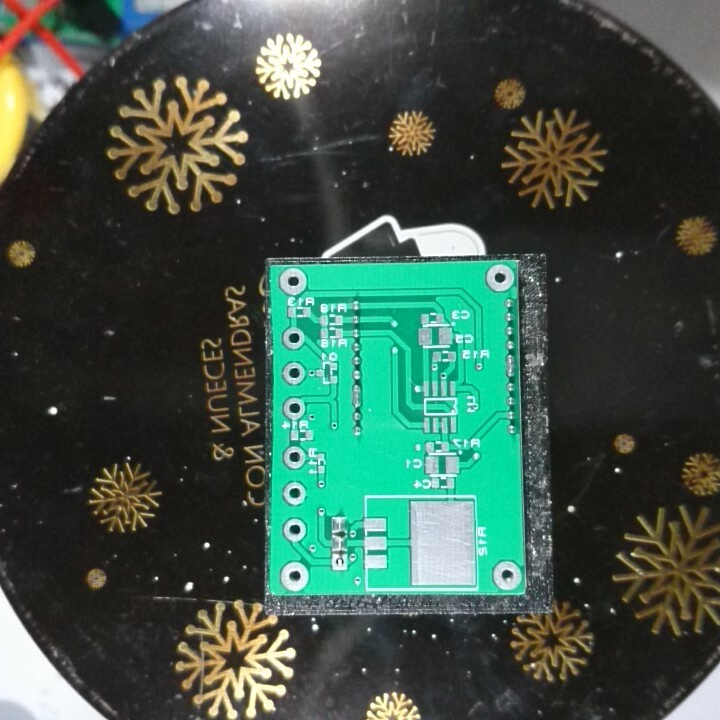F: (481, 262, 516, 297), (276, 266, 310, 300), (279, 558, 312, 592), (490, 558, 522, 588), (281, 393, 308, 423), (283, 516, 308, 548), (281, 358, 307, 388), (281, 442, 306, 472), (281, 480, 307, 508), (281, 323, 304, 353), (330, 552, 350, 575)
P: (350, 379, 368, 409), (504, 351, 518, 383)
